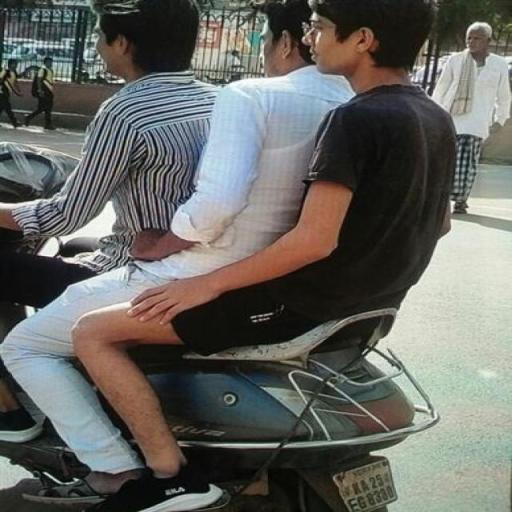tripple riding: (0, 0, 466, 333)
